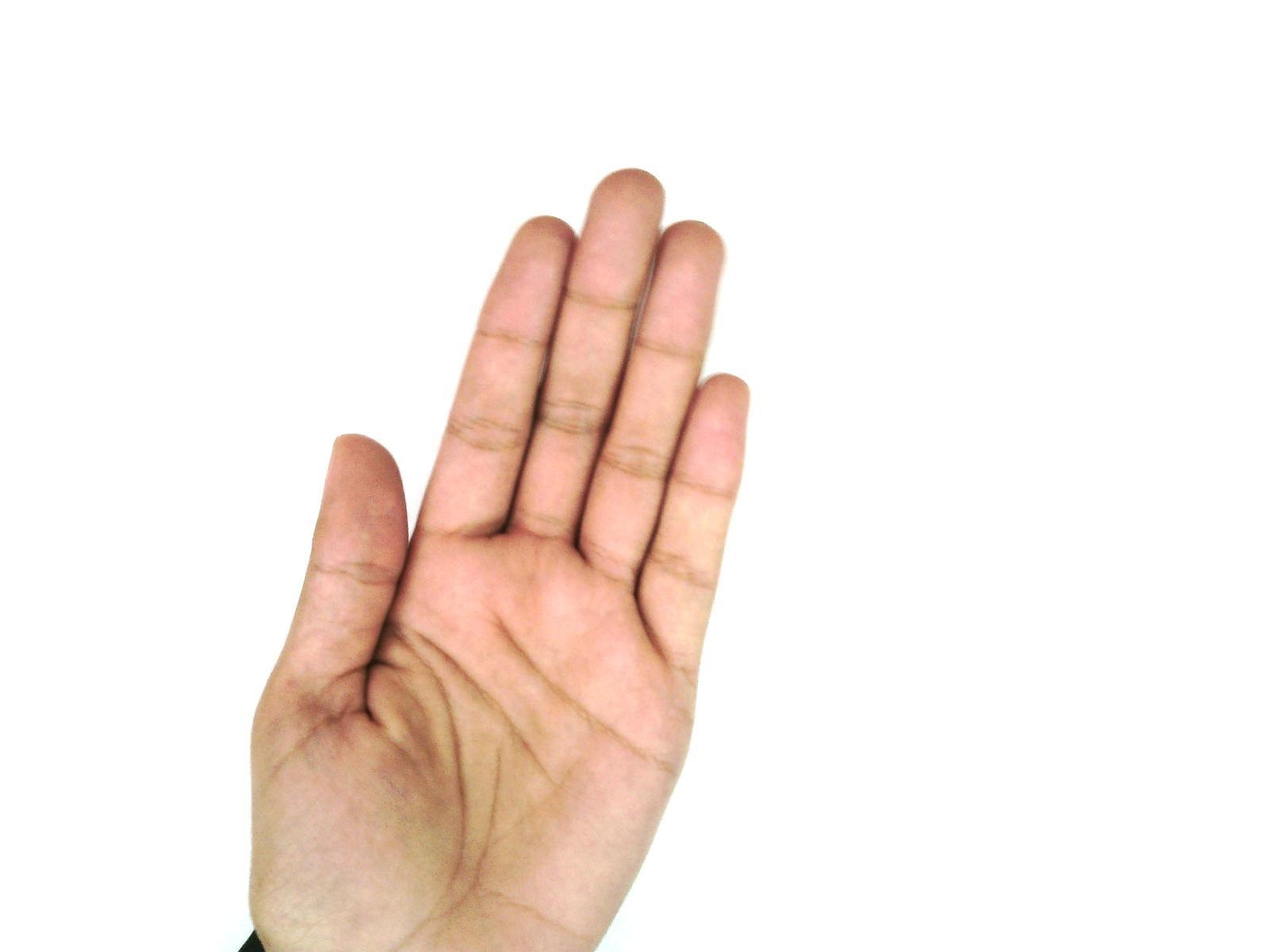open_palm: (243, 167, 754, 951)
